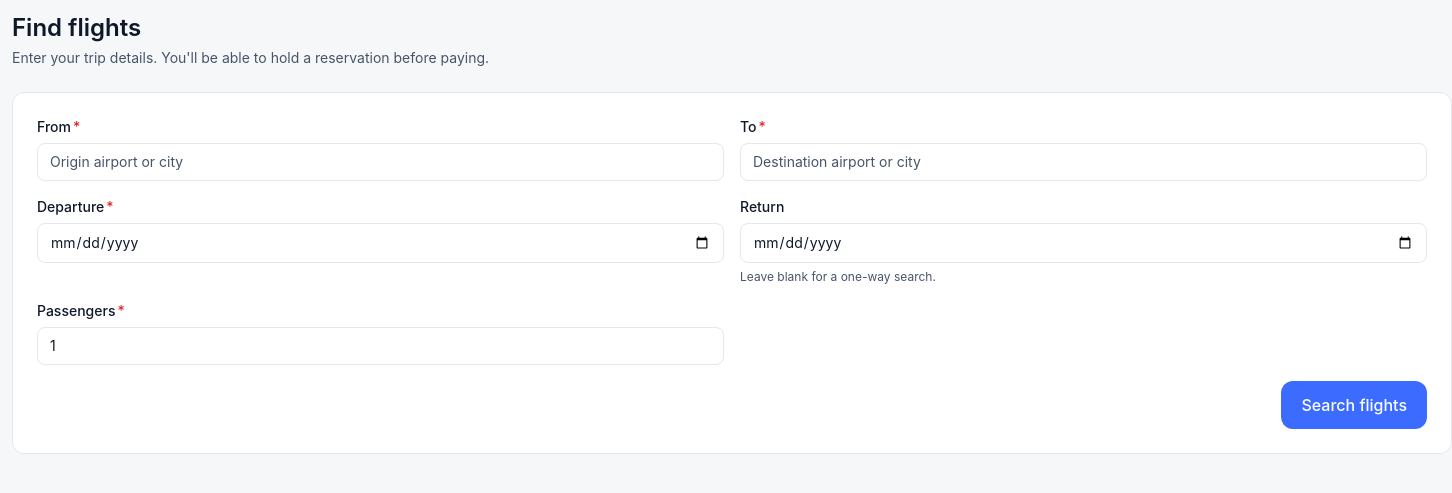
Test case: SearchScreen › shows a validation error when required fields are missing
What coordinates should you click on to do the following:
click the button "Search flights"
I would click on:
 (1354, 405)
Its box is [1281, 381, 1427, 429].
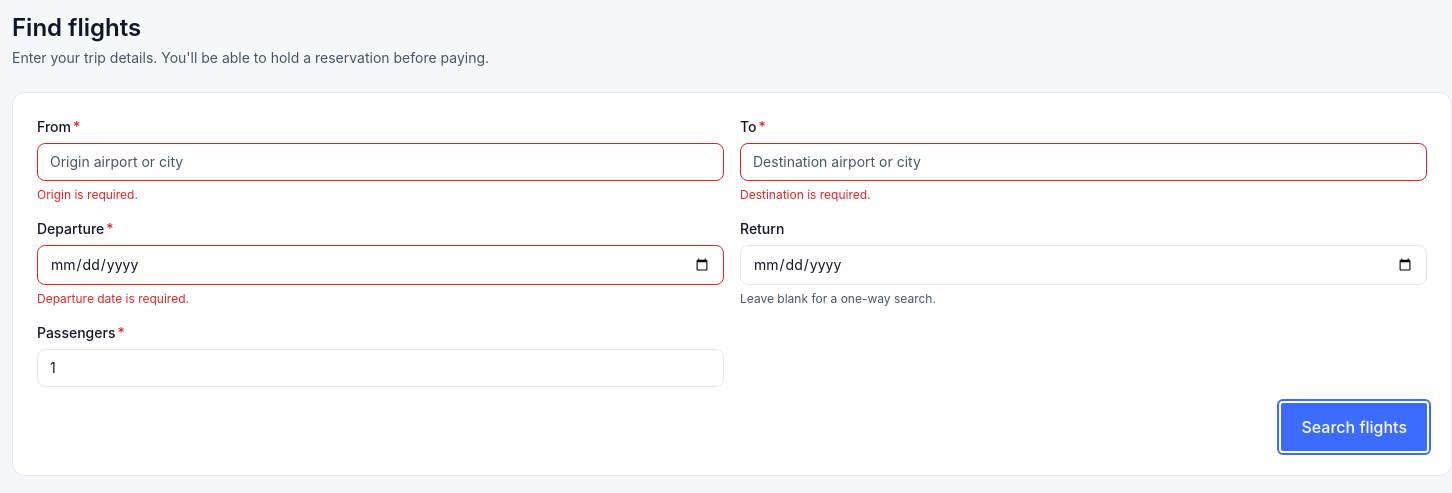
expect the text "Origin is required." is shown: met, box [37, 187, 138, 202]
expect the text "Destination is required." is shown: met, box [740, 187, 870, 202]
expect the text "Departure date is required." is shown: met, box [37, 291, 189, 306]
